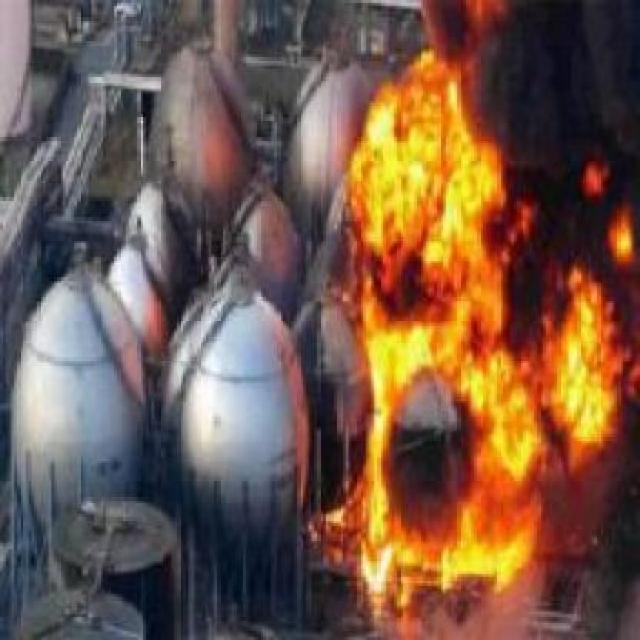Fire: (350, 55, 511, 352), (360, 352, 536, 606), (474, 274, 620, 478)
